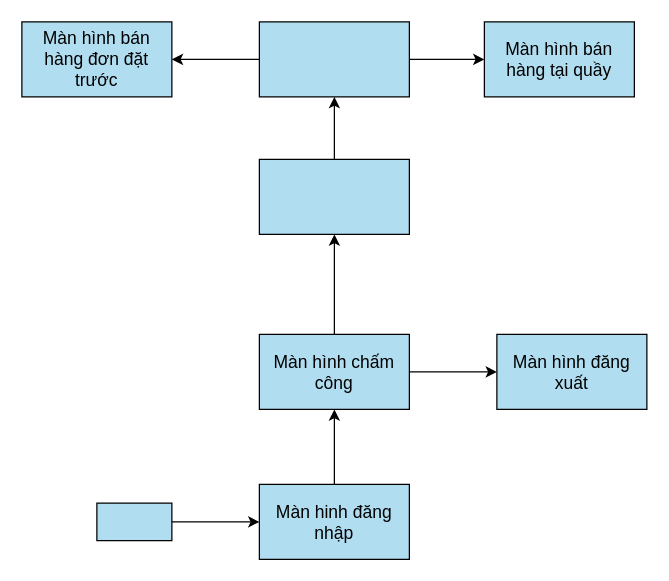
Some shapes in this 669 by 581 pixel diagram are drawn without their labels. Each missing label, with the box of its shape:
Màn hình bán hàng: (258, 21, 409, 97)
Màn hình menu chính: (258, 158, 409, 234)
Start: (96, 502, 172, 541)
